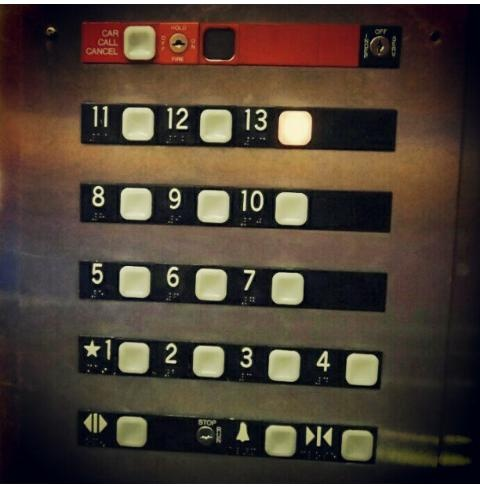10: (236, 184, 314, 231)
11: (77, 101, 157, 147)
12: (159, 102, 234, 149)
13: (239, 103, 316, 152)
2: (156, 339, 227, 382)
3: (232, 342, 303, 387)
4: (306, 346, 384, 392)
5: (76, 258, 153, 303)
6: (158, 260, 231, 306)
7: (234, 264, 309, 311)
8: (77, 180, 157, 226)
9: (160, 183, 232, 229)
alarm: (228, 416, 297, 461)
bt_keyhole: (157, 18, 243, 66)
close: (302, 420, 379, 466)
keyhole: (357, 24, 400, 69), (188, 414, 229, 457)
open: (75, 408, 154, 453)
s1: (75, 333, 151, 379)
text: (77, 19, 158, 67)
